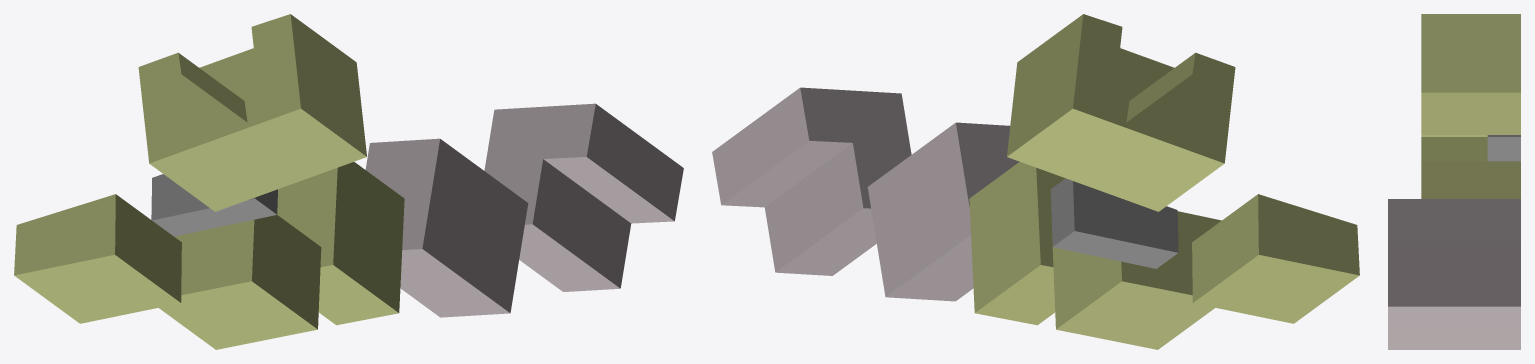
3 views of the same model, side by side, from view 1: azimuth 30°, elevation 25°; view 2: azimuth 150°, elevation 25°; view 3: azimuth 270°, elevation 25° (orthographic). The views are drawn at different scales.
Visible parts, largest first — view 1: 0_1_0_0_1_0_2_2_1; view 2: 0_1_0_0_1_0_2_2_1; view 3: 0_1_0_0_1_0_2_2_1.
Part boxes in pixels (left/top/right/bottom): 0_1_0_0_1_0_2_2_1: left=14, top=14, right=683, bottom=349; 0_1_0_0_1_0_2_2_1: left=712, top=14, right=1359, bottom=349; 0_1_0_0_1_0_2_2_1: left=1388, top=14, right=1520, bottom=349.
Bounding box in the file's own units: 45.73 × 20.23 × 12.
